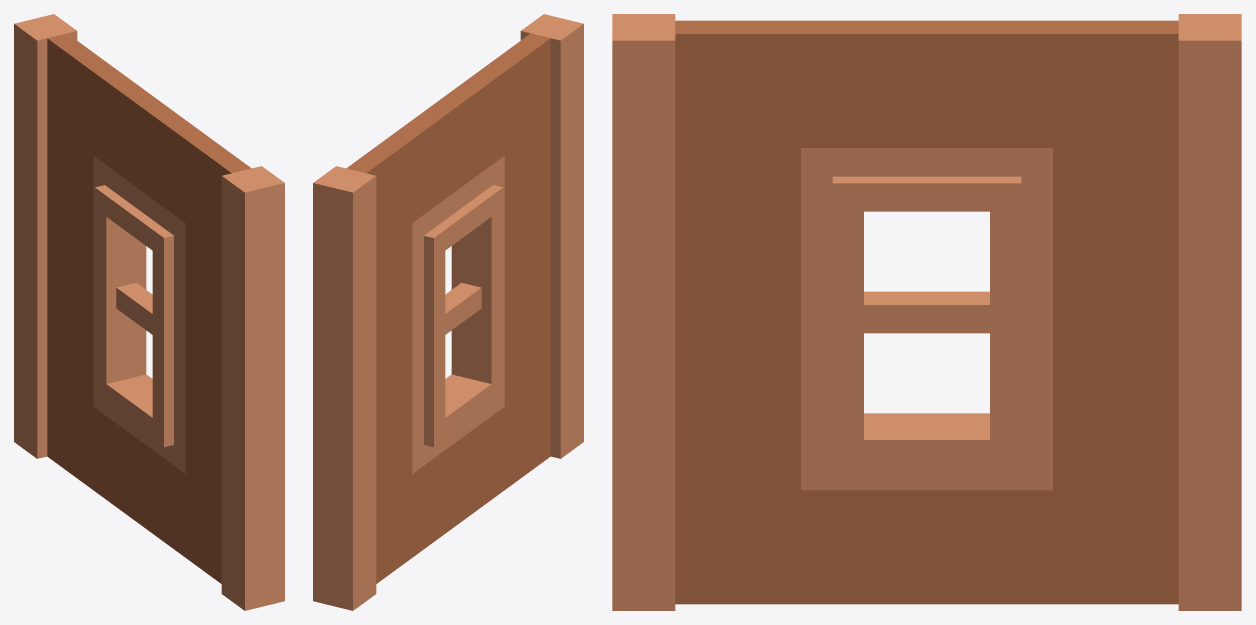
File: wallWoodWindowGlass.fbx
3 renders of one model, left to right at view 1: azimuth 30°, elevation 25°; view 2: azimuth 150°, elevation 25°; view 3: azimuth 270°, elevation 25°, orthographic. The views are drawn at different scales.
Parts seen in each view (by area): view 1: wallWoodWindowGlass; view 2: wallWoodWindowGlass; view 3: wallWoodWindowGlass.
Part boxes in pixels (x1=…): wallWoodWindowGlass: x1=14, y1=14, x2=284, y2=610; wallWoodWindowGlass: x1=313, y1=14, x2=583, y2=610; wallWoodWindowGlass: x1=612, y1=14, x2=1241, y2=610.
Size of the model in its own units: 1 by 10 by 10.
